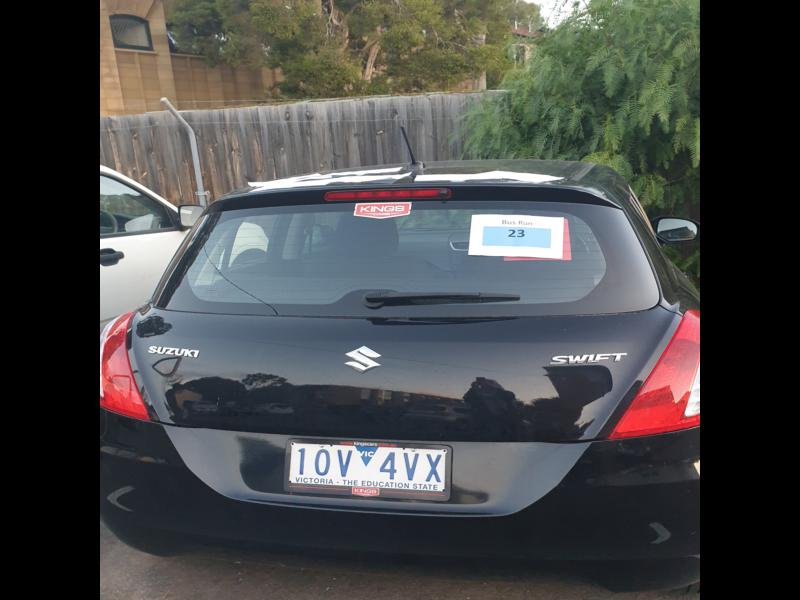BusRun: (482, 223, 553, 248)
PlateNo: (286, 437, 448, 493)
